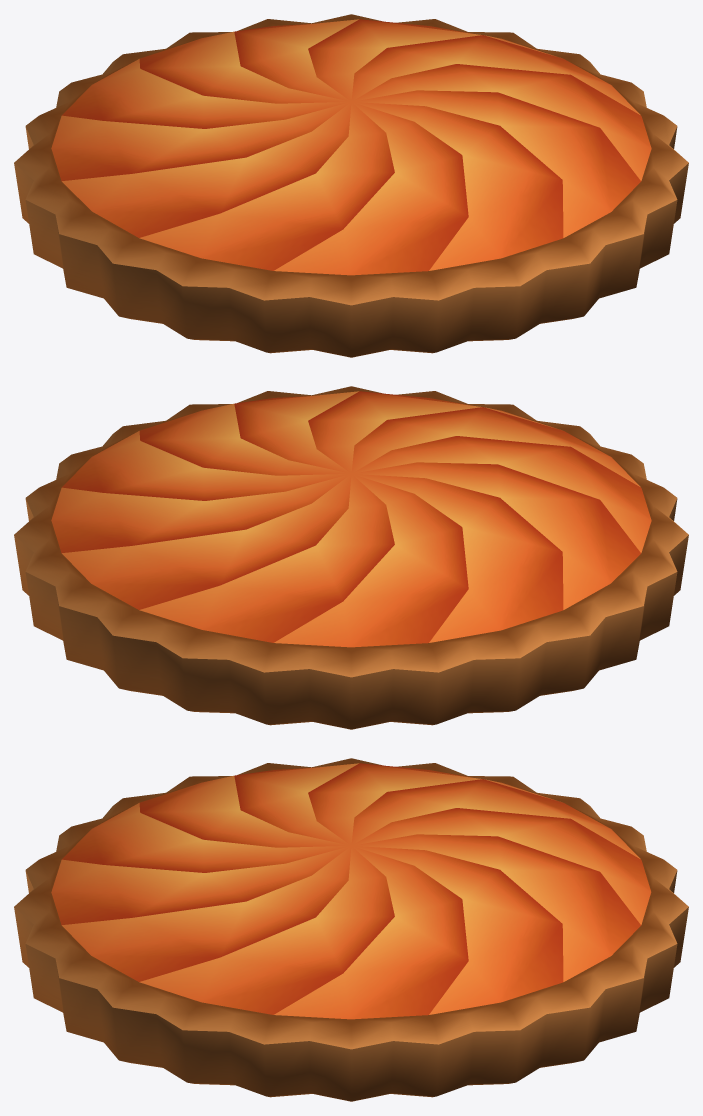
The model's file is m_GaletteDesRois01.fbx.
3 renders of one model, top to bottom at view 1: azimuth 30°, elevation 25°; view 2: azimuth 150°, elevation 25°; view 3: azimuth 270°, elevation 25°, orthographic.
Parts seen in each view (by area): view 1: m_GaletteDesRois01; view 2: m_GaletteDesRois01; view 3: m_GaletteDesRois01.
Boxes of the visible parts, x1,y1,x2,y2 form: m_GaletteDesRois01: [14, 14, 688, 357]; m_GaletteDesRois01: [14, 386, 688, 729]; m_GaletteDesRois01: [14, 758, 688, 1101].
Bounding box in the file's own units: 27.67 × 5.58 × 27.67.
